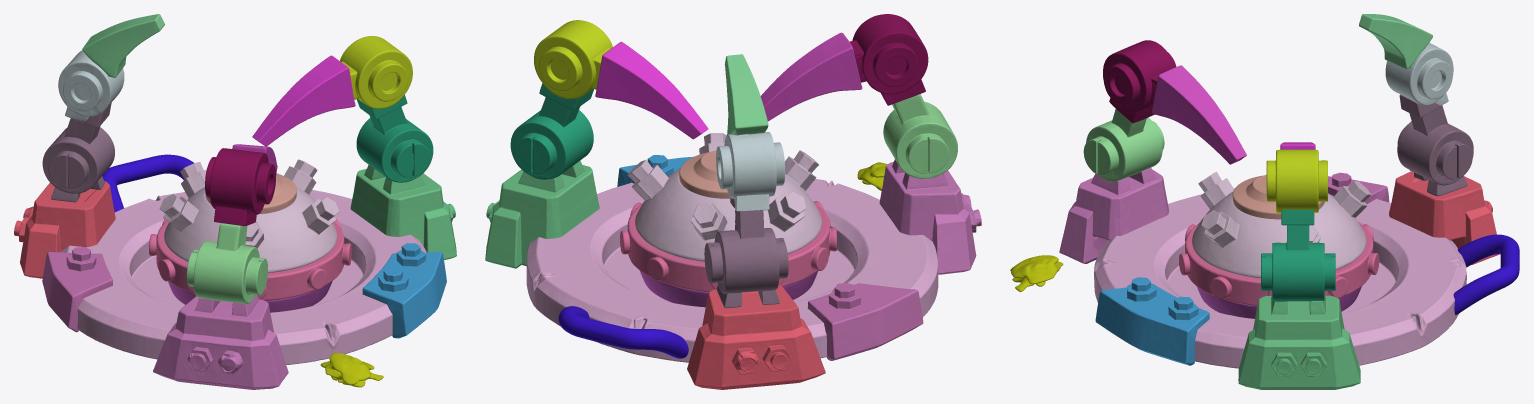
3 renders of one model, left to right at view 1: azimuth 30°, elevation 25°; view 2: azimuth 150°, elevation 25°; view 3: azimuth 270°, elevation 25°, orthographic. The views are drawn at different scales.
Parts seen in each view (by area): view 1: world; view 2: world; view 3: world.
Boxes of the visible parts, x1,y1,x2,y2 form: world: (14, 14, 456, 389); world: (485, 14, 981, 389); world: (1010, 14, 1519, 389).
Size of the model in its own units: 0.9041 by 0.5696 by 1.03.
